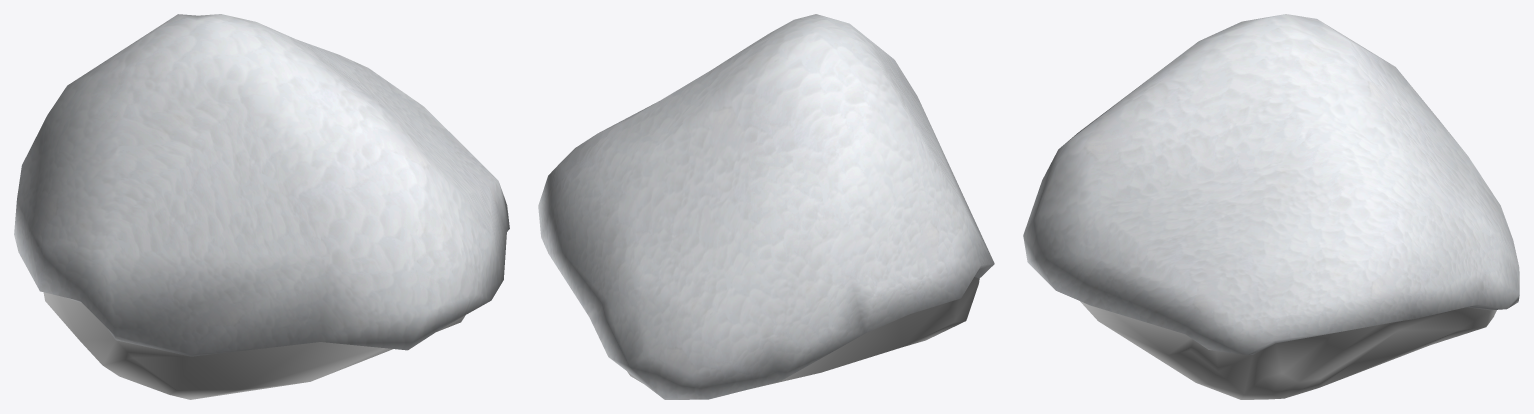
File: rock_s05c.fbx
3 views of the same model, side by side, from view 1: azimuth 30°, elevation 25°; view 2: azimuth 150°, elevation 25°; view 3: azimuth 270°, elevation 25° (orthographic). The views are drawn at different scales.
Visible parts, largest first — view 1: rock_s05c; view 2: rock_s05c; view 3: rock_s05c.
Boxes of the visible parts, <box> form: rock_s05c: <box>14,14,509,399</box>; rock_s05c: <box>538,14,994,399</box>; rock_s05c: <box>1023,14,1519,399</box>.
Bounding box in the file's own units: 251 × 174 × 271.
